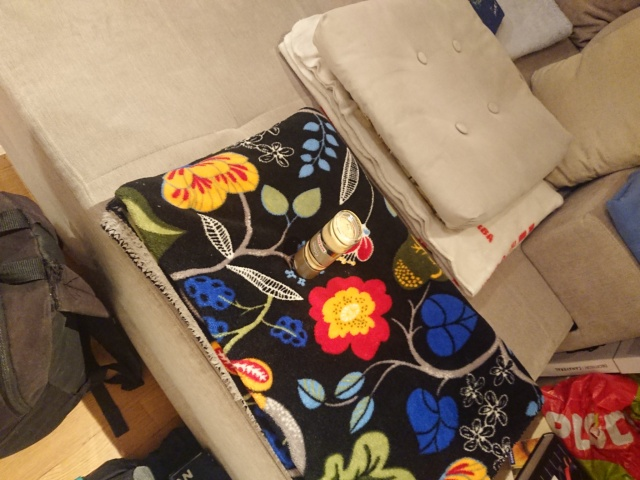Kotanyi Garlic Granules 70g: (290, 207, 366, 282)
